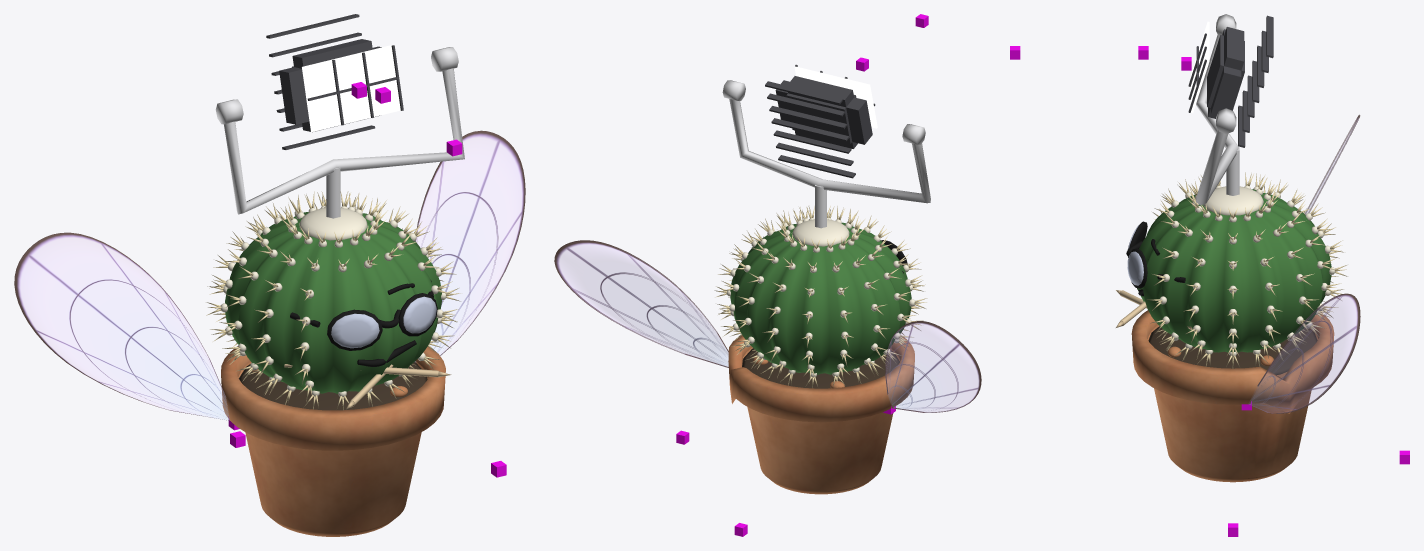
The model's file is 08_cactus_chill_guy.glb.
3 renders of one model, left to right at view 1: azimuth 30°, elevation 25°; view 2: azimuth 150°, elevation 25°; view 3: azimuth 270°, elevation 25°, orthographic. The views are drawn at different scales.
Parts seen in each view (by area): view 1: Cactus__Vaso_Terracotta, Cactus__Verde, Cactus__Ali_Mosca__Ala_Mosca_L, Cactus__Ali_Mosca__Ala_Mosca_R, Cactus__Cromo, Cactus__Faretto_Luce, Cactus__Spine, Cactus__Faretto_Metallo, Cactus__Lanugine, Cactus__Terra, Cactus__Occhiali_Specchio, Cactus__Faccia_Decal (+1 smaller); view 2: Cactus__Verde, Cactus__Vaso_Terracotta, Cactus__Ali_Mosca__Ala_Mosca_R, Cactus__Ali_Mosca__Ala_Mosca_L, Cactus__Faretto_Metallo, Cactus__Cromo, Cactus__Spine, Cactus__Lanugine, Cactus__Terra, Cactus__Faretto_Luce; view 3: Cactus__Verde, Cactus__Vaso_Terracotta, Cactus__Ali_Mosca__Ala_Mosca_R, Cactus__Faretto_Metallo, Cactus__Lanugine, Cactus__Spine, Cactus__Cromo, Cactus__Terra, Cactus__Faccia_Decal, Cactus__Faretto_Luce, Cactus__Occhiali_Specchio.
Part boxes in pixels (x1,y1,x2,y2): Cactus__Vaso_Terracotta: [221, 346, 445, 536]; Cactus__Verde: [225, 212, 441, 393]; Cactus__Ali_Mosca__Ala_Mosca_L: [14, 232, 229, 420]; Cactus__Ali_Mosca__Ala_Mosca_R: [415, 130, 525, 362]; Cactus__Cromo: [215, 47, 464, 218]; Cactus__Faretto_Luce: [302, 45, 400, 131]; Cactus__Spine: [206, 191, 460, 409]; Cactus__Faretto_Metallo: [266, 14, 403, 149]; Cactus__Lanugine: [220, 206, 446, 397]; Cactus__Terra: [238, 362, 427, 410]; Cactus__Occhiali_Specchio: [331, 296, 436, 348]; Cactus__Faccia_Decal: [290, 280, 437, 366]; Cactus__Verde: [730, 222, 911, 374]; Cactus__Vaso_Terracotta: [728, 335, 914, 494]; Cactus__Ali_Mosca__Ala_Mosca_R: [554, 240, 728, 367]; Cactus__Ali_Mosca__Ala_Mosca_L: [885, 321, 981, 412]; Cactus__Faretto_Metallo: [765, 64, 875, 178]; Cactus__Cromo: [722, 80, 930, 228]; Cactus__Spine: [714, 206, 927, 387]; Cactus__Lanugine: [726, 217, 915, 377]; Cactus__Terra: [742, 348, 899, 388]; Cactus__Faretto_Luce: [794, 66, 877, 128]; Cactus__Verde: [1137, 189, 1331, 352]; Cactus__Vaso_Terracotta: [1131, 310, 1334, 482]; Cactus__Ali_Mosca__Ala_Mosca_R: [1249, 293, 1360, 413]; Cactus__Faretto_Metallo: [1188, 15, 1273, 147]; Cactus__Lanugine: [1159, 185, 1335, 356]; Cactus__Spine: [1147, 172, 1347, 368]; Cactus__Cromo: [1196, 14, 1239, 205]; Cactus__Terra: [1148, 326, 1317, 375]; Cactus__Faccia_Decal: [1126, 221, 1185, 296]; Cactus__Faretto_Luce: [1191, 21, 1209, 113]; Cactus__Occhiali_Specchio: [1127, 225, 1143, 285].
Bounding box in the file's own units: 4.6 × 4.12 × 3.49.
13 materials, 2 textured.
